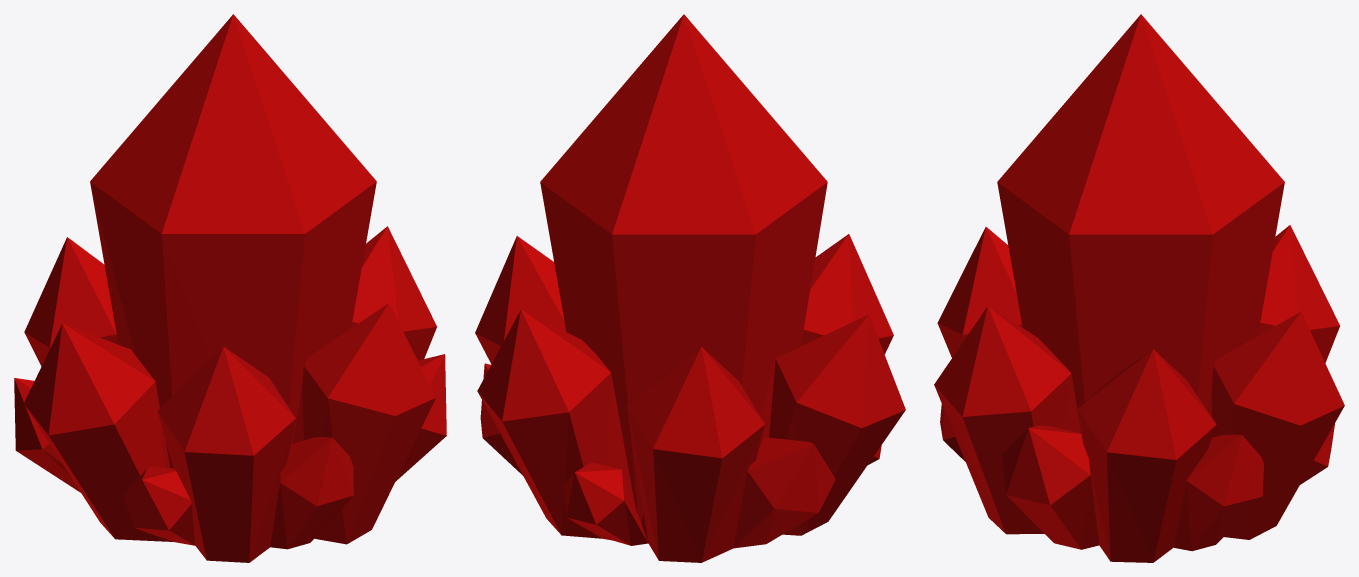
The model's file is crystal_red.obj.
The picture shows the model from 3 angles, left to right: view 1: azimuth 30°, elevation 25°; view 2: azimuth 150°, elevation 25°; view 3: azimuth 270°, elevation 25°; orthographic projection.
Visible parts, largest first — view 1: Crystal_Cube; view 2: Crystal_Cube; view 3: Crystal_Cube.
Boxes of the visible parts, left/top/right/bottom form: Crystal_Cube: left=14, top=14, right=446, bottom=562; Crystal_Cube: left=475, top=14, right=905, bottom=562; Crystal_Cube: left=934, top=14, right=1344, bottom=562.
Size of the model in its own units: 0.8345 by 0.9795 by 0.7515.
